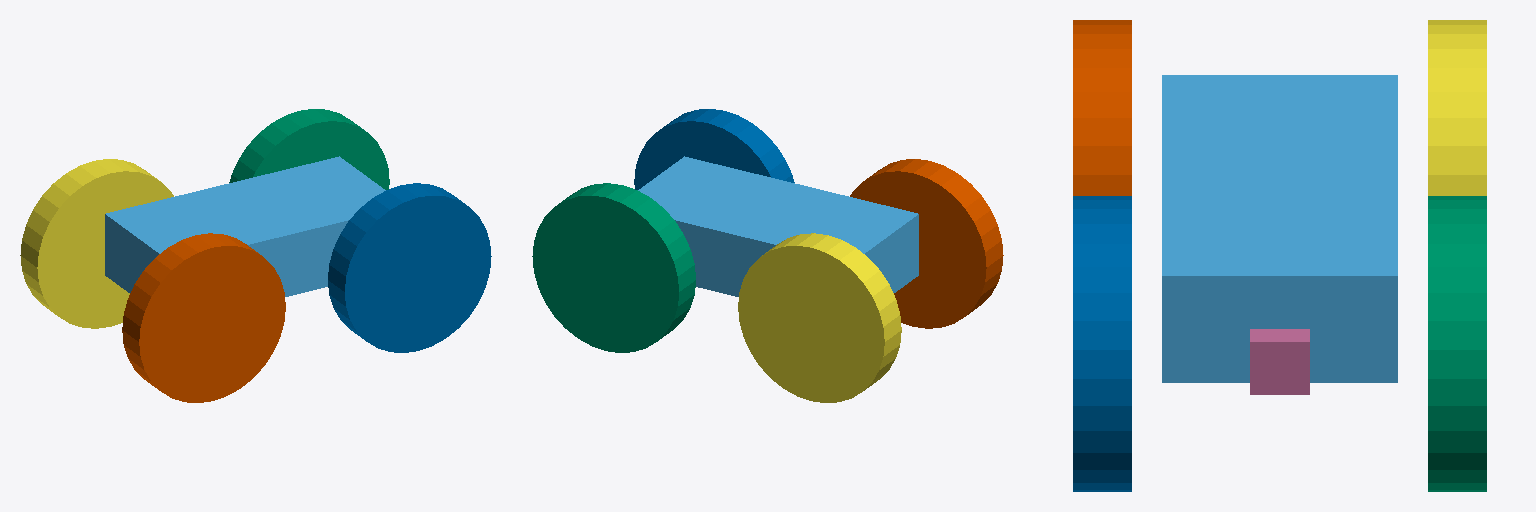
URDF robot description (iBot):
<?xml version="1.0" ?>
<!-- =================================================================================== -->
<!-- |    This document was autogenerated by xacro from [local-path]/ros2_ws/src/Autonomous-Inspection-POC/gazebo/urdf/iBot.urdf.xacro | -->
<!-- |    EDITING THIS FILE BY HAND IS NOT RECOMMENDED                                 | -->
<!-- =================================================================================== -->
<robot name="iBot">
  <!--skid_steer_drive_controller-->
  <gazebo>
    <plugin filename="libgazebo_ros_diff_drive.so" name="skid_steer_drive_controller">
      <ros>
        <namespace>/iBot</namespace>
        <remapping>/cmd_vel:=mr_cme_vel</remapping>
        <remapping>/odom:=odom</remapping>
      </ros>
      <update_rate>100.0</update_rate>
      <num_wheel_pairs>2</num_wheel_pairs>
      <odometry_frame>odom</odometry_frame>
      <left_joint>front_left_wheel_joint</left_joint>
      <left_joint>back_left_wheel_joint</left_joint>
      <wheel_separation>0.4</wheel_separation>
      <wheel_diameter>0.2</wheel_diameter>
      <right_joint>front_right_wheel_joint</right_joint>
      <right_joint>back_right_wheel_joint</right_joint>
      <wheel_separation>0.4</wheel_separation>
      <wheel_diameter>0.2</wheel_diameter>
      <robot_base_frame>robot_footprint</robot_base_frame>
      <max_wheel_torque>20</max_wheel_torque>
      <publish_odom>true</publish_odom>
      <publish_odom_tf>true</publish_odom_tf>
      <publish_wheel_tf>true</publish_wheel_tf>
      <odometry_source>world</odometry_source>
    </plugin>
  </gazebo>
  <!-- camera -->
  <gazebo reference="camera">
    <sensor name="camera_sensor" type="camera">
      <update_rate>30.0</update_rate>
      <always_on>1</always_on>
      <camera name="camera">
        <horizontal_fov>1.3962634</horizontal_fov>
        <image>
          <width>800</width>
          <height>800</height>
          <format>R8G8B8</format>
        </image>
        <clip>
          <near>0.02</near>
          <far>300</far>
        </clip>
        <distortion>
          <k1>0.0</k1>
          <k2>0.0</k2>
          <k3>0.0</k3>
          <p1>0.0</p1>
          <p2>0.0</p2>
          <center>0.5 0.5</center>
        </distortion>
      </camera>
      <plugin filename="libgazebo_ros_camera.so" name="camera_controller">
        <ros>
          <namespace>/iBot</namespace>
          <remapping>camera/image_raw:=/iBot/camera/image</remapping>
          <remapping>camera/camera_info:=/iBot/camera/image/camera_info</remapping>
        </ros>
        <camera_name>camera</camera_name>
        <frame_name>camera</frame_name>
        <hack_baseline>0.07</hack_baseline>
      </plugin>
    </sensor>
  </gazebo>
  <!-- imu -->
  <gazebo reference="imu">
    <sensor name="imu_sensor" type="imu">
      <plugin filename="libgazebo_ros_imu_sensor.so" name="imu">
        <ros>
          <namespace>/iBot</namespace>
          <remapping>~/out:=imu</remapping>
        </ros>
        <initial_orientation_as_reference>false</initial_orientation_as_reference>
      </plugin>
      <always_on>true</always_on>
      <update_rate>100</update_rate>
      <visualize>true</visualize>
      <imu>
        <angular_velocity>
          <x>
            <noise type="gaussian">
              <mean>0.0</mean>
              <stddev>2e-4</stddev>
              <bias_mean>0.0000075</bias_mean>
              <bias_stddev>0.0000008</bias_stddev>
            </noise>
          </x>
          <y>
            <noise type="gaussian">
              <mean>0.0</mean>
              <stddev>2e-4</stddev>
              <bias_mean>0.0000075</bias_mean>
              <bias_stddev>0.0000008</bias_stddev>
            </noise>
          </y>
          <z>
            <noise type="gaussian">
              <mean>0.0</mean>
              <stddev>2e-4</stddev>
              <bias_mean>0.0000075</bias_mean>
              <bias_stddev>0.0000008</bias_stddev>
            </noise>
          </z>
        </angular_velocity>
        <linear_acceleration>
          <x>
            <noise type="gaussian">
              <mean>0.0</mean>
              <stddev>1.7e-2</stddev>
              <bias_mean>0.1</bias_mean>
              <bias_stddev>0.001</bias_stddev>
            </noise>
          </x>
          <y>
            <noise type="gaussian">
              <mean>0.0</mean>
              <stddev>1.7e-2</stddev>
              <bias_mean>0.1</bias_mean>
              <bias_stddev>0.001</bias_stddev>
            </noise>
          </y>
          <z>
            <noise type="gaussian">
              <mean>0.0</mean>
              <stddev>1.7e-2</stddev>
              <bias_mean>0.1</bias_mean>
              <bias_stddev>0.001</bias_stddev>
            </noise>
          </z>
        </linear_acceleration>
      </imu>
    </sensor>
  </gazebo>
  <link name="robot_footprint"/>
  <joint name="robot_footprint_joint" type="fixed">
    <origin rpy="0 0 0" xyz="0 0 0"/>
    <parent link="robot_footprint"/>
    <child link="chassis"/>
  </joint>
  <link name="chassis">
    <pose>0 0 0 0 0 0</pose>
    <inertial>
      <mass value="15.0"/>
      <origin rpy=" 0 0 0" xyz="0.0 0 0"/>
      <inertia ixx="0.1" ixy="0" ixz="0" iyy="0.1" iyz="0" izz="0.1"/>
    </inertial>
    <collision name="collision">
      <origin rpy=" 0 0 0" xyz="0 0 0"/>
      <geometry>
        <box size=".4 .2 .1"/>
      </geometry>
    </collision>
    <visual name="chassis_visual">
      <origin rpy=" 0 0 0" xyz="0 0 0"/>
      <geometry>
        <box size=".4 .2 .1"/>
      </geometry>
    </visual>
  </link>
  <link name="front_left_wheel">
    <inertial>
      <mass value="5.0"/>
      <origin rpy=" 0 1.5707 1.5707" xyz="0.0 0 0"/>
      <inertia ixx="0.1" ixy="0" ixz="0" iyy="0.1" iyz="0" izz="0.1"/>
    </inertial>
    <visual>
      <origin rpy=" 0 1.5707 1.5707" xyz="0.0 0 0"/>
      <geometry>
        <cylinder length="0.05" radius="0.125"/>
      </geometry>
    </visual>
    <collision>
      <origin rpy=" 0 1.5707 1.5707" xyz="0.0 0 0"/>
      <geometry>
        <cylinder length="0.05" radius="0.125"/>
      </geometry>
    </collision>
  </link>
  <link name="back_left_wheel">
    <inertial>
      <mass value="5.0"/>
      <origin rpy=" 0 1.5707 1.5707" xyz="0.0 0 0"/>
      <inertia ixx="0.1" ixy="0" ixz="0" iyy="0.1" iyz="0" izz="0.1"/>
    </inertial>
    <visual>
      <origin rpy=" 0 1.5707 1.5707" xyz="0.0 0 0"/>
      <geometry>
        <cylinder length="0.05" radius="0.125"/>
      </geometry>
    </visual>
    <collision>
      <origin rpy=" 0 1.5707 1.5707" xyz="0.0 0 0"/>
      <geometry>
        <cylinder length="0.05" radius="0.125"/>
      </geometry>
    </collision>
  </link>
  <link name="front_right_wheel">
    <inertial>
      <mass value="5.0"/>
      <origin rpy=" 0 1.5707 1.5707" xyz="0.0 0 0"/>
      <inertia ixx="0.1" ixy="0" ixz="0" iyy="0.1" iyz="0" izz="0.1"/>
    </inertial>
    <visual>
      <origin rpy=" 0 1.5707 1.5707" xyz="0.0 0 0"/>
      <geometry>
        <cylinder length="0.05" radius="0.125"/>
      </geometry>
    </visual>
    <collision>
      <origin rpy=" 0 1.5707 1.5707" xyz="0.0 0 0"/>
      <geometry>
        <cylinder length="0.05" radius="0.125"/>
      </geometry>
    </collision>
  </link>
  <link name="back_right_wheel">
    <inertial>
      <mass value="5.0"/>
      <origin rpy=" 0 1.5707 1.5707" xyz="0.0 0 0"/>
      <inertia ixx="0.1" ixy="0" ixz="0" iyy="0.1" iyz="0" izz="0.1"/>
    </inertial>
    <visual>
      <origin rpy=" 0 1.5707 1.5707" xyz="0.0 0 0"/>
      <geometry>
        <cylinder length="0.05" radius="0.125"/>
      </geometry>
    </visual>
    <collision>
      <origin rpy=" 0 1.5707 1.5707" xyz="0.0 0 0"/>
      <geometry>
        <cylinder length="0.05" radius="0.125"/>
      </geometry>
    </collision>
  </link>
  <link name="camera">
    <inertial>
      <mass value="0.1"/>
      <origin rpy=" 0 0 0" xyz="0.05 0.05 0.05"/>
      <inertia ixx="1e-6" ixy="0" ixz="0" iyy="1e-6" iyz="0" izz="1e-6"/>
    </inertial>
    <visual name="camera_visual">
      <origin rpy="0 0 0" xyz="0 0 0"/>
      <geometry>
        <box size="0.05 0.05 0.05"/>
      </geometry>
    </visual>
    <collision name="camera_colision">
      <origin rpy="0 0 0" xyz="0 0 0"/>
      <geometry>
        <box size="0.05 0.05 0.05"/>
      </geometry>
    </collision>
  </link>
  <link name="imu">
    <inertial>
      <mass value="0.1"/>
      <origin rpy=" 0 0 0" xyz="0.05 0.05 0.05"/>
      <inertia ixx="1e-6" ixy="0" ixz="0" iyy="1e-6" iyz="0" izz="1e-6"/>
    </inertial>
    <visual name="imu_visual">
      <origin rpy="0 0 0" xyz="0 0 0"/>
      <geometry>
        <box size="0.05 0.05 0.05"/>
      </geometry>
    </visual>
    <collision name="imu_colision">
      <origin rpy="0 0 0" xyz="0 0 0"/>
      <geometry>
        <box size="0.05 0.05 0.05"/>
      </geometry>
    </collision>
  </link>
  <joint name="front_left_wheel_joint" type="continuous">
    <origin rpy="0 0 0" xyz="0.175 0.15 -0.025"/>
    <child link="front_left_wheel"/>
    <parent link="chassis"/>
    <axis rpy="0 0 0" xyz="0 1 0"/>
    <limit effort="10000" velocity="1000"/>
    <dynamics damping="1.0" friction="1.0"/>
  </joint>
  <joint name="front_right_wheel_joint" type="continuous">
    <origin rpy="0 0 0" xyz="0.175 -0.15 -0.025"/>
    <child link="front_right_wheel"/>
    <parent link="chassis"/>
    <axis rpy="0 0 0" xyz="0 1 0"/>
    <limit effort="10000" velocity="1000"/>
    <dynamics damping="1.0" friction="1.0"/>
  </joint>
  <joint name="back_left_wheel_joint" type="continuous">
    <origin rpy="0 0 0" xyz="-0.175 0.15 -0.025"/>
    <child link="back_left_wheel"/>
    <parent link="chassis"/>
    <axis rpy="0 0 0" xyz="0 1 0"/>
    <limit effort="10000" velocity="1000"/>
    <dynamics damping="1.0" friction="1.0"/>
  </joint>
  <joint name="back_right_wheel_joint" type="continuous">
    <origin rpy="0 0 0" xyz="-0.175 -0.15 -0.025"/>
    <child link="back_right_wheel"/>
    <parent link="chassis"/>
    <axis rpy="0 0 0" xyz="0 1 0"/>
    <limit effort="10000" velocity="1000"/>
    <dynamics damping="1.0" friction="1.0"/>
  </joint>
  <joint name="camera_joint" type="fixed">
    <origin rpy="0 1.5707 0" xyz="0.2 0 -0.025"/>
    <child link="camera"/>
    <parent link="chassis"/>
  </joint>
  <joint name="imu_joint" type="fixed">
    <origin rpy="0 0 0" xyz="0 0 0"/>
    <child link="imu"/>
    <parent link="chassis"/>
  </joint>
  <gazebo reference="chassis">
    <material>Gazebo/Blue</material>
  </gazebo>
  <gazebo reference="camera">
    <material>Gazebo/Red</material>
  </gazebo>
  <gazebo reference="imu">
    <material>Gazebo/Red</material>
  </gazebo>
</robot>

--- Facts derived from the render (not from the file) ---
Views: 3 orthographic renders of the robot side by side, from view 1: azimuth 30°, elevation 25°; view 2: azimuth 150°, elevation 25°; view 3: azimuth 270°, elevation 25°.
Model iBot with 8 links and 7 joints (4 continuous, 3 fixed), rooted at robot_footprint, posed every joint at zero.
Visible links, largest first — view 1: back_right_wheel, front_right_wheel, chassis, back_left_wheel, front_left_wheel; view 2: back_left_wheel, front_left_wheel, chassis, back_right_wheel, front_right_wheel; view 3: chassis, front_left_wheel, front_right_wheel, back_left_wheel, back_right_wheel, camera.
Link boxes in pixels (box(x1,y1,x2,y2)): back_right_wheel: box(122, 233, 285, 402); front_right_wheel: box(328, 183, 491, 352); chassis: box(105, 156, 385, 296); back_left_wheel: box(20, 159, 173, 328); front_left_wheel: box(229, 109, 389, 189); back_left_wheel: box(738, 233, 901, 402); front_left_wheel: box(532, 183, 695, 352); chassis: box(638, 156, 918, 296); back_right_wheel: box(850, 159, 1003, 328); front_right_wheel: box(634, 109, 794, 189); chassis: box(1162, 75, 1397, 382); front_left_wheel: box(1428, 196, 1486, 491); front_right_wheel: box(1073, 196, 1131, 491); back_left_wheel: box(1428, 20, 1486, 195); back_right_wheel: box(1073, 20, 1131, 195); camera: box(1250, 329, 1309, 394).
Bounding box of the posed robot: 0.6 × 0.35 × 0.25 m (x, y, z).
Geometry: primitives only (box / cylinder / sphere), no mesh files.